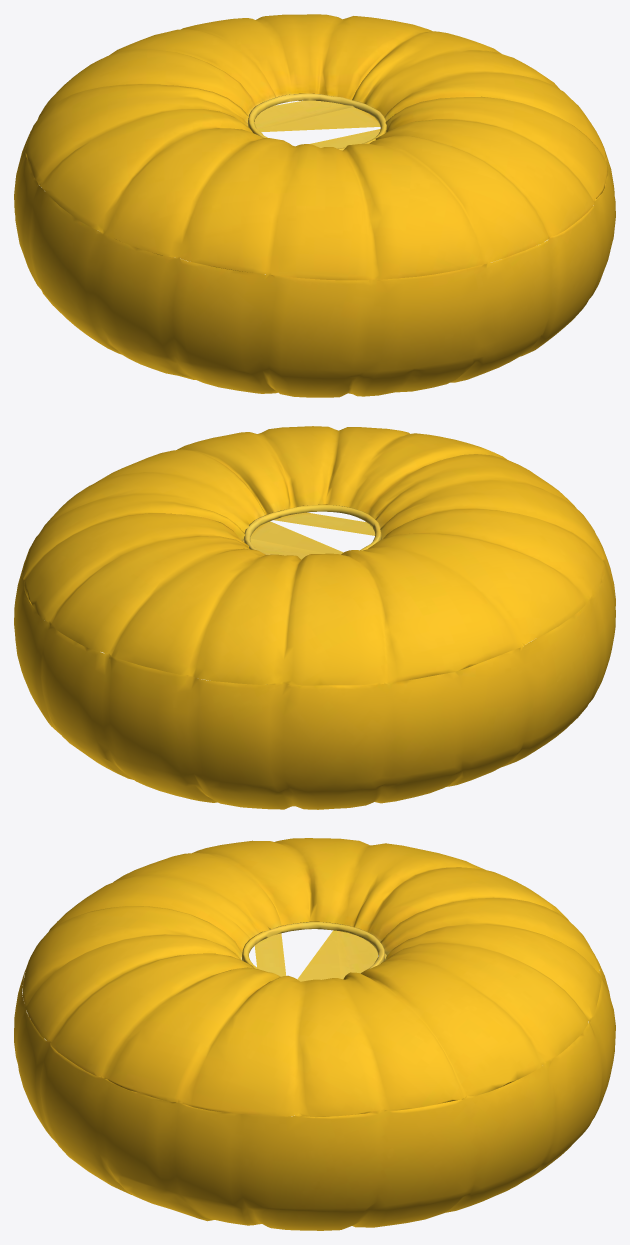
File: cushion-yellow.glb
3 views of the same model, one above another, from view 1: azimuth 30°, elevation 25°; view 2: azimuth 150°, elevation 25°; view 3: azimuth 270°, elevation 25° (orthographic).
Parts seen in each view (by area): view 1: tripo_41ef78e3_b52d_483d_8e67_4cfdaa13aba5; view 2: tripo_41ef78e3_b52d_483d_8e67_4cfdaa13aba5; view 3: tripo_41ef78e3_b52d_483d_8e67_4cfdaa13aba5.
Boxes of the visible parts, x1,y1,x2,y2 form: tripo_41ef78e3_b52d_483d_8e67_4cfdaa13aba5: (14, 14, 615, 397); tripo_41ef78e3_b52d_483d_8e67_4cfdaa13aba5: (14, 426, 615, 809); tripo_41ef78e3_b52d_483d_8e67_4cfdaa13aba5: (14, 838, 615, 1230).
Bounding box in the file's own units: 0.999 × 0.42 × 1.01.
Materials: 1 (1 with a texture image).
